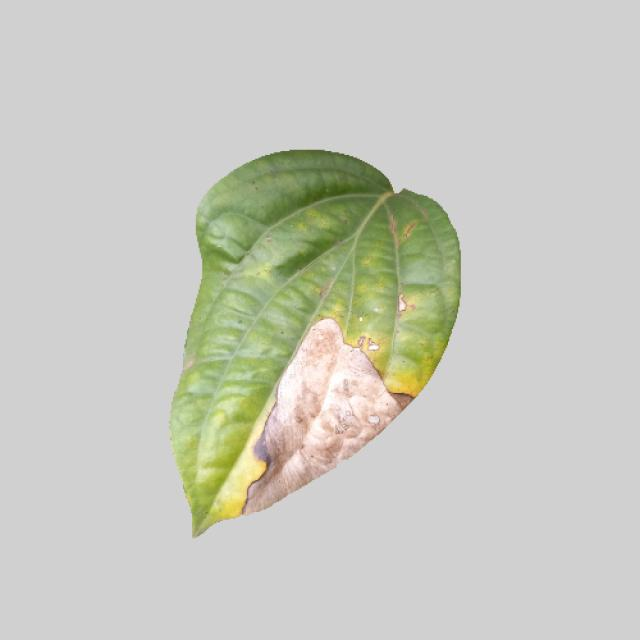leaf-blight: (160, 152, 463, 538)
